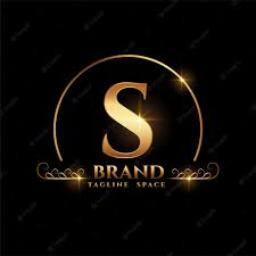s: (97, 77, 157, 163)
